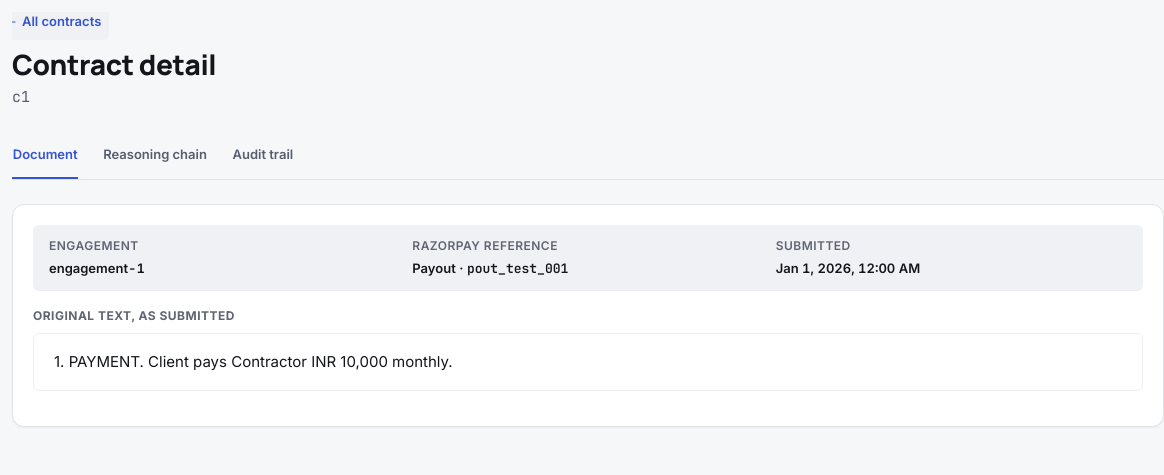
it: ContractDetailPage › isolates a failure to the tab that failed, leaving the other tabs usable
Expected: the text "1. PAYMENT. Client pays Contractor INR 10,000 monthly." is shown, [33,333,1143,391]
What coordinates should you click on to do the following:
click the tab "Reasoning chain"
I would click on:
 (155, 156)
Its box is [102,133,208,179].
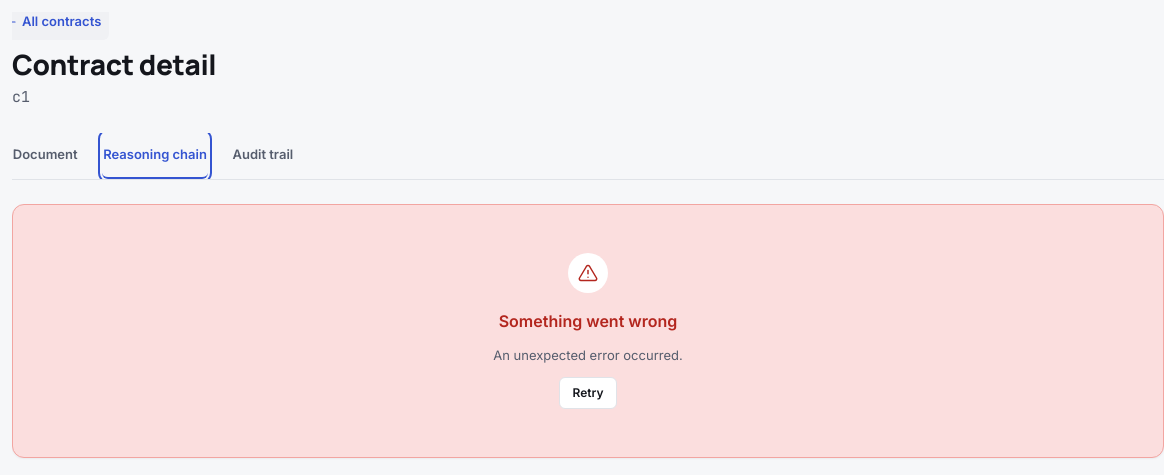
Now the message "Something went wrong An unexpected error occurred. Retry" is shown, box [12,204,1163,458]
// Audit trail, unaffected by either other request, still works.
What coordinates should you click on to do the following:
click the tab "Audit trail"
I would click on:
 (263, 156)
Its box is [232,133,294,179].
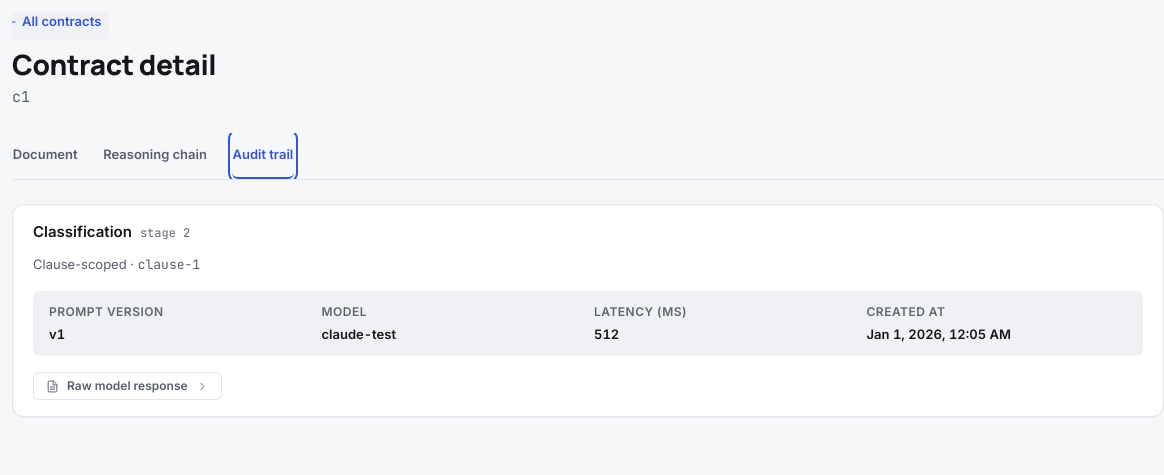
Now the list with test id "audit-list" is shown, box [12,204,1163,417]
